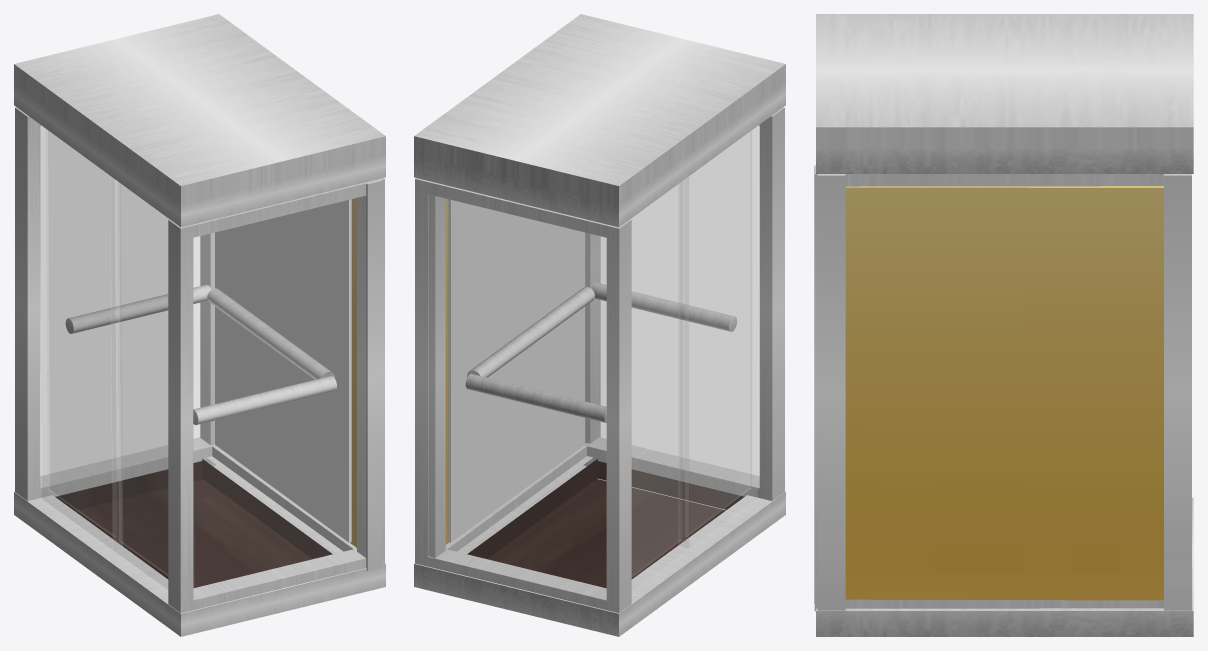
File: morris.glb
3 views of the same model, side by side, from view 1: azimuth 30°, elevation 25°; view 2: azimuth 150°, elevation 25°; view 3: azimuth 270°, elevation 25° (orthographic). The views are drawn at different scales.
Parts seen in each view (by area): view 1: walls, ceiling, Mirror, wallframe, doorLeft, doorRight, floor_tile, backside-frame, floor, handrails, backside-wall; view 2: walls, ceiling, wallframe, Mirror, doorRight, doorLeft, floor_tile, floor, backside-frame, handrails, backside-wall; view 3: backside-wall, ceiling, wallframe, floor, backside-frame.
Part boxes in pixels (<box>): walls: <box>41,126,365,599</box>; ceiling: <box>14,14,385,227</box>; Mirror: <box>215,199,351,542</box>; wallframe: <box>15,107,384,613</box>; doorLeft: <box>40,125,122,548</box>; doorRight: <box>111,177,168,588</box>; floor_tile: <box>55,458,332,587</box>; backside-frame: <box>200,180,382,571</box>; floor: <box>14,456,385,636</box>; handrails: <box>65,284,336,425</box>; backside-wall: <box>350,198,356,547</box>; walls: <box>429,126,758,600</box>; ceiling: <box>414,14,785,227</box>; wallframe: <box>415,107,784,613</box>; Mirror: <box>448,199,584,542</box>; doorRight: <box>679,126,757,547</box>; doorLeft: <box>631,177,688,589</box>; floor_tile: <box>467,458,744,588</box>; floor: <box>414,456,785,636</box>; backside-frame: <box>428,194,600,557</box>; handrails: <box>465,282,736,422</box>; backside-wall: <box>445,198,585,544</box>; backside-wall: <box>845,186,1163,600</box>; ceiling: <box>816,14,1193,173</box>; wallframe: <box>817,174,1191,610</box>; floor: <box>816,497,1193,636</box>; backside-frame: <box>814,165,1163,611</box>.
Bounding box in the file's own units: 2.96 × 6.21 × 4.18.
7 materials, 5 textured.
